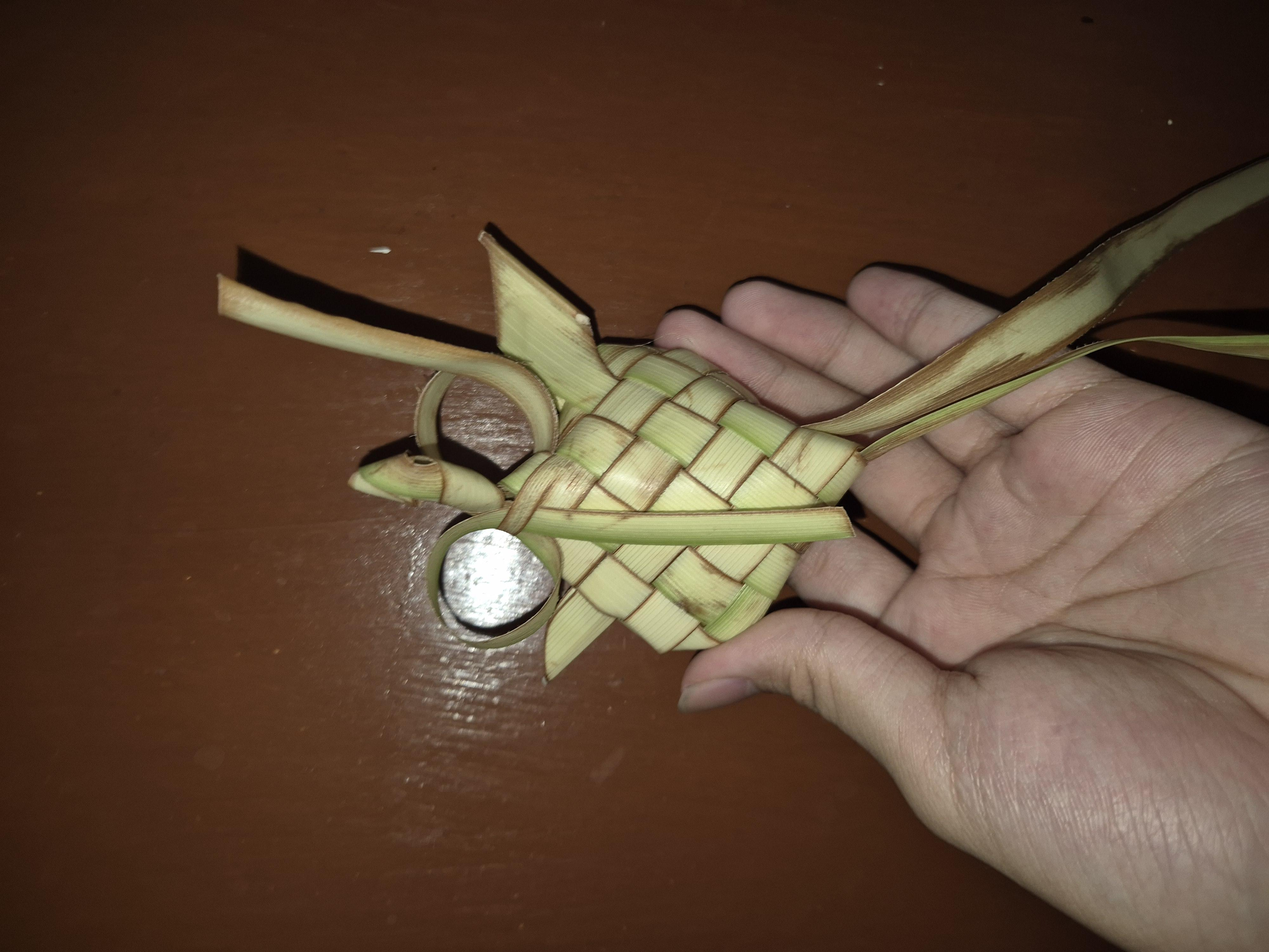Tipat Dampulan: (366, 164, 956, 649)
